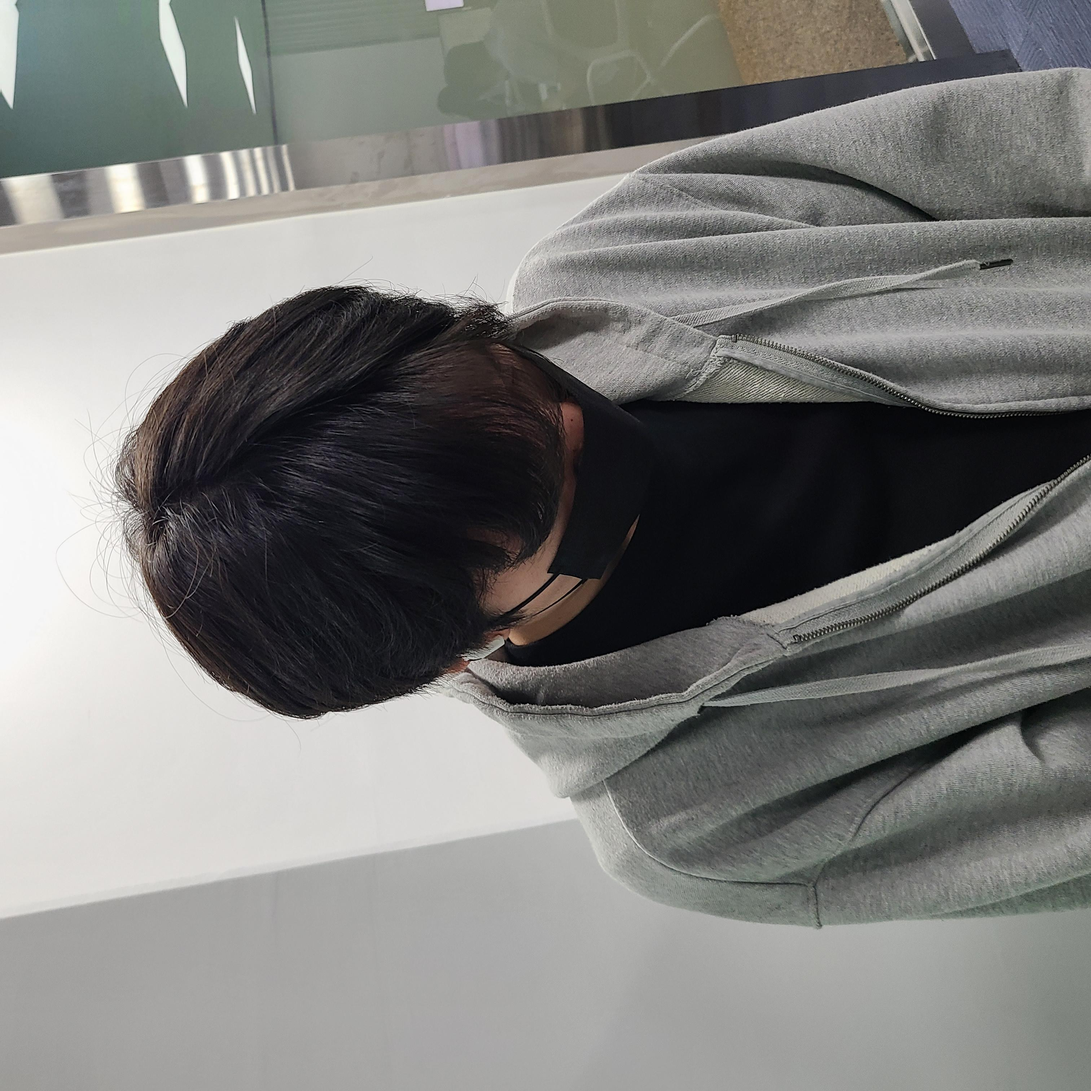earphone: (421, 457, 465, 510)
